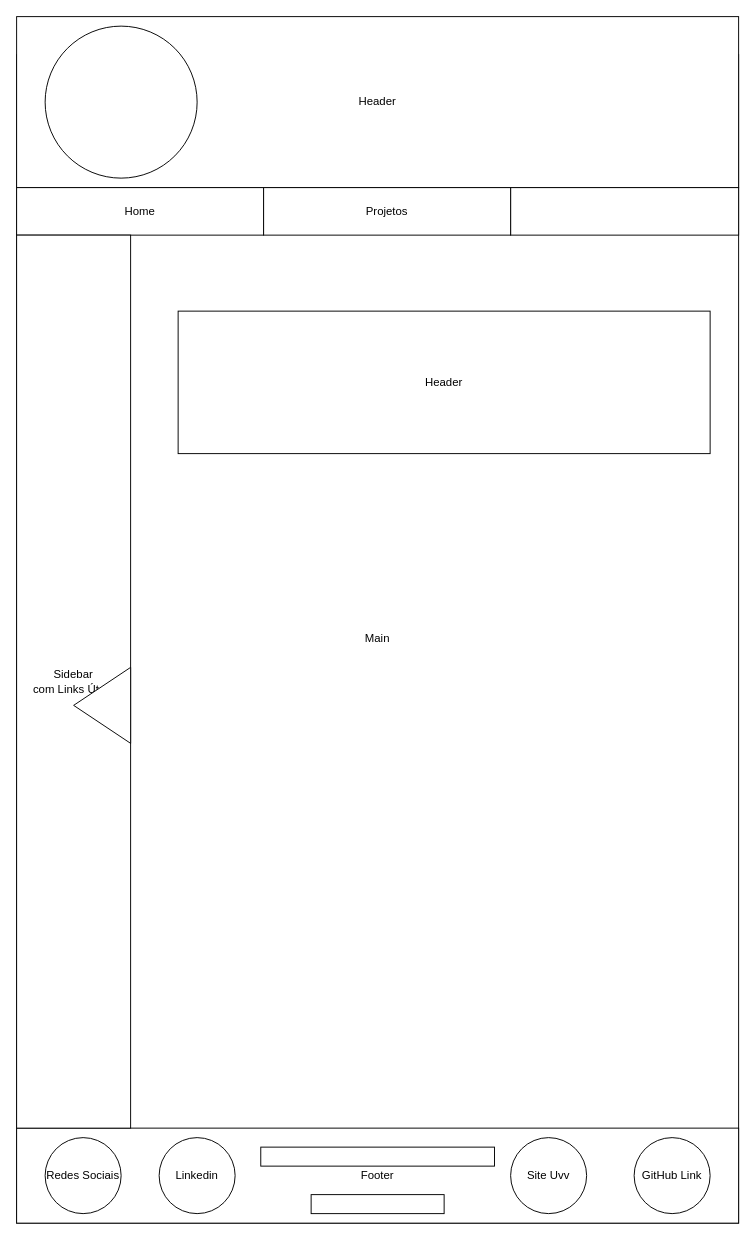
Image size: 755x1240. Some labels were removed from this diagram. The shapes that lost their labels are listed below. From the top down, each one's centre as x and y in pixels, then its label:
At (377,1156): "Contatos".
At (377,1204): "Versão da Página".
